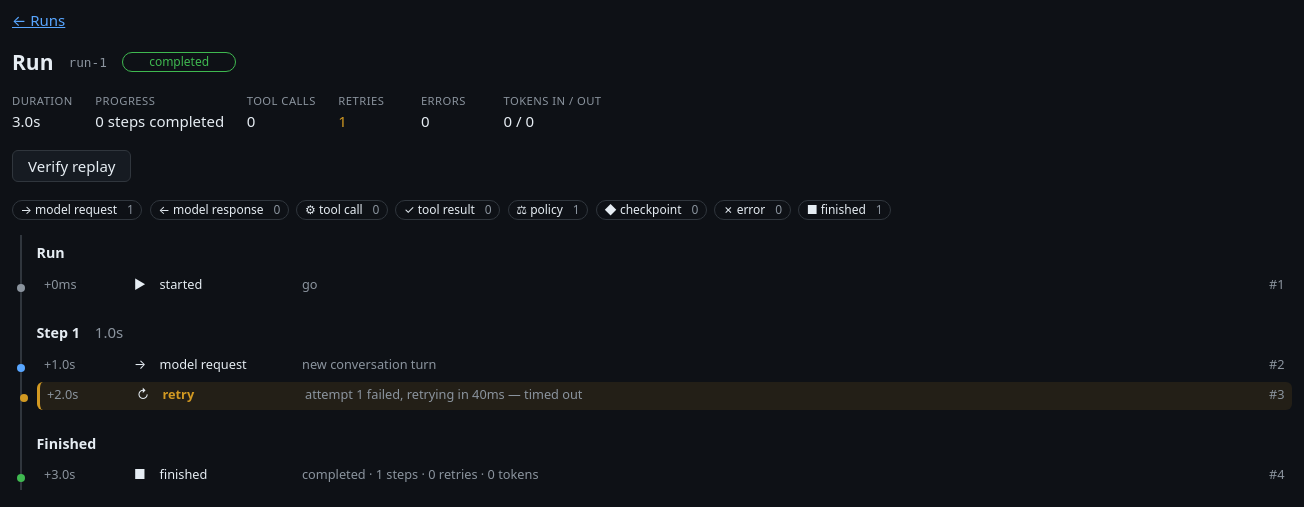
Test: RunDetailPage › hides an event type when its chip is toggled off
Expected: the element "Step 1" is shown, [36,315,1292,410]
Click the button "⚖ policy 1" at (548, 210), box [508,200,588,220]
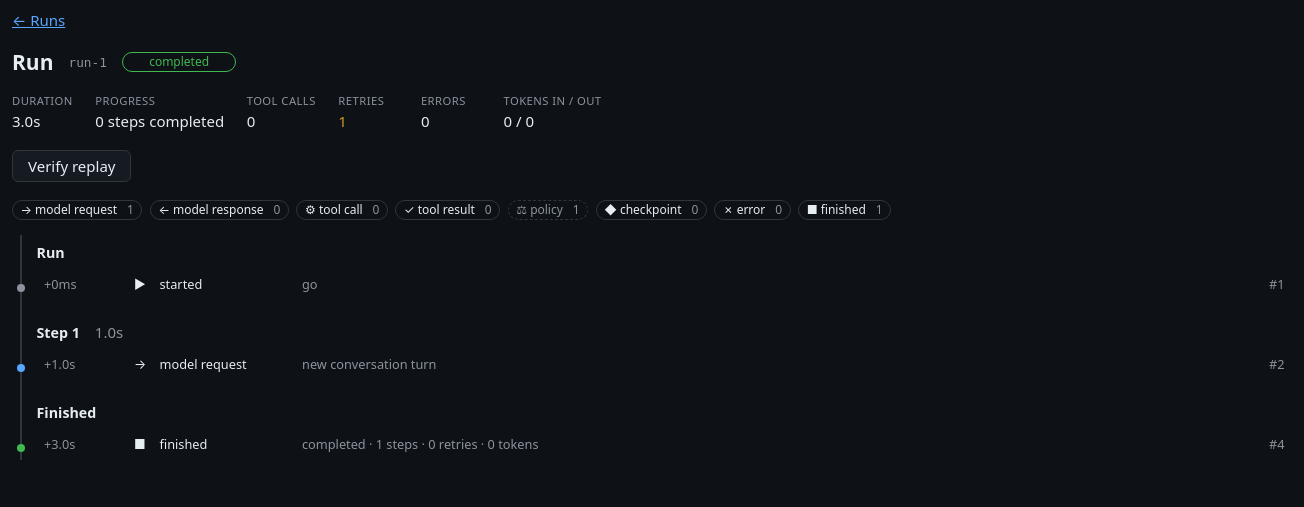
Expected: the button "attempt 1 failed, retrying in 40ms — timed out" is gone
